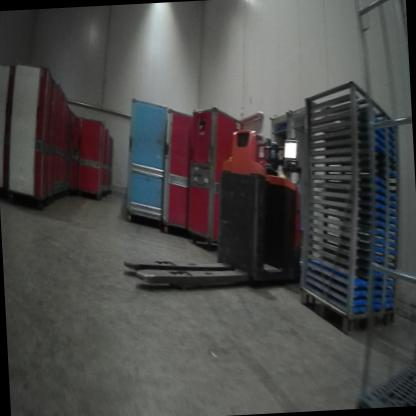pallet_truck: (108, 113, 314, 301)
